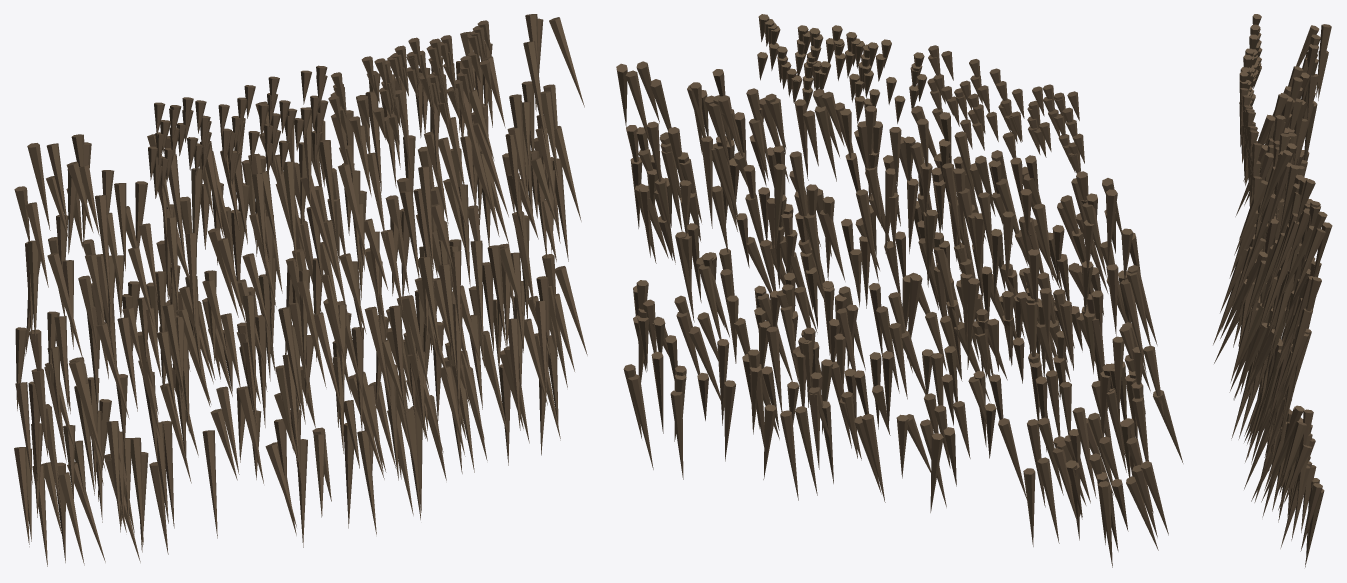
Rendered from full_beard.glb.
3 renders of one model, left to right at view 1: azimuth 30°, elevation 25°; view 2: azimuth 150°, elevation 25°; view 3: azimuth 270°, elevation 25°, orthographic. The views are drawn at different scales.
Visible parts, largest first — view 1: p296, p317, p303, p111, p385, p36, p121, p107, p92, p373, p47, p142 (+5 smaller); view 2: no part large enough to name; view 3: p191, p365, p260, p29, p306, p317, p369, p278, p7, p121, p148, p38 (+73 smaller).
Boxes of the visible parts, x1=… form: p296: x1=278, y1=307, x2=302, y2=417; p317: x1=438, y1=264, x2=456, y2=376; p303: x1=389, y1=305, x2=405, y2=415; p111: x1=95, y1=195, x2=110, y2=305; p385: x1=202, y1=430, x2=217, y2=538; p36: x1=69, y1=360, x2=105, y2=470; p121: x1=523, y1=41, x2=547, y2=149; p107: x1=508, y1=318, x2=520, y2=430; p92: x1=130, y1=437, x2=143, y2=544; p373: x1=47, y1=252, x2=83, y2=360; p47: x1=106, y1=421, x2=120, y2=528; p142: x1=418, y1=166, x2=433, y2=273; p191: x1=1285, y1=308, x2=1312, y2=383; p365: x1=1279, y1=421, x2=1306, y2=494; p260: x1=1292, y1=228, x2=1325, y2=300; p29: x1=1316, y1=24, x2=1331, y2=97; p306: x1=1234, y1=180, x2=1267, y2=255; p317: x1=1233, y1=322, x2=1267, y2=399; p369: x1=1300, y1=483, x2=1322, y2=551; p278: x1=1270, y1=270, x2=1294, y2=351; p7: x1=1263, y1=247, x2=1293, y2=323; p121: x1=1279, y1=225, x2=1314, y2=300; p148: x1=1279, y1=165, x2=1299, y2=235; p38: x1=1260, y1=150, x2=1292, y2=214.
Size of the model in its own units: 0.164 by 0.1357 by 0.0366.
